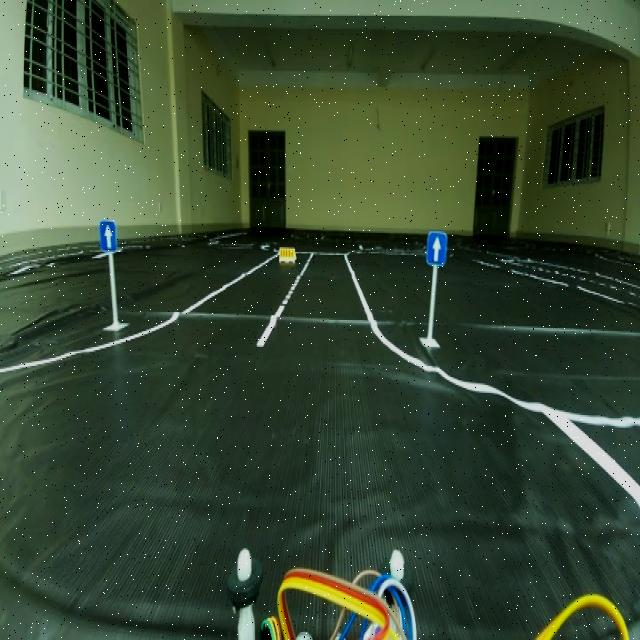onewayroad: (422, 229, 453, 267), (96, 212, 120, 254)
roadblock: (277, 242, 296, 267)
